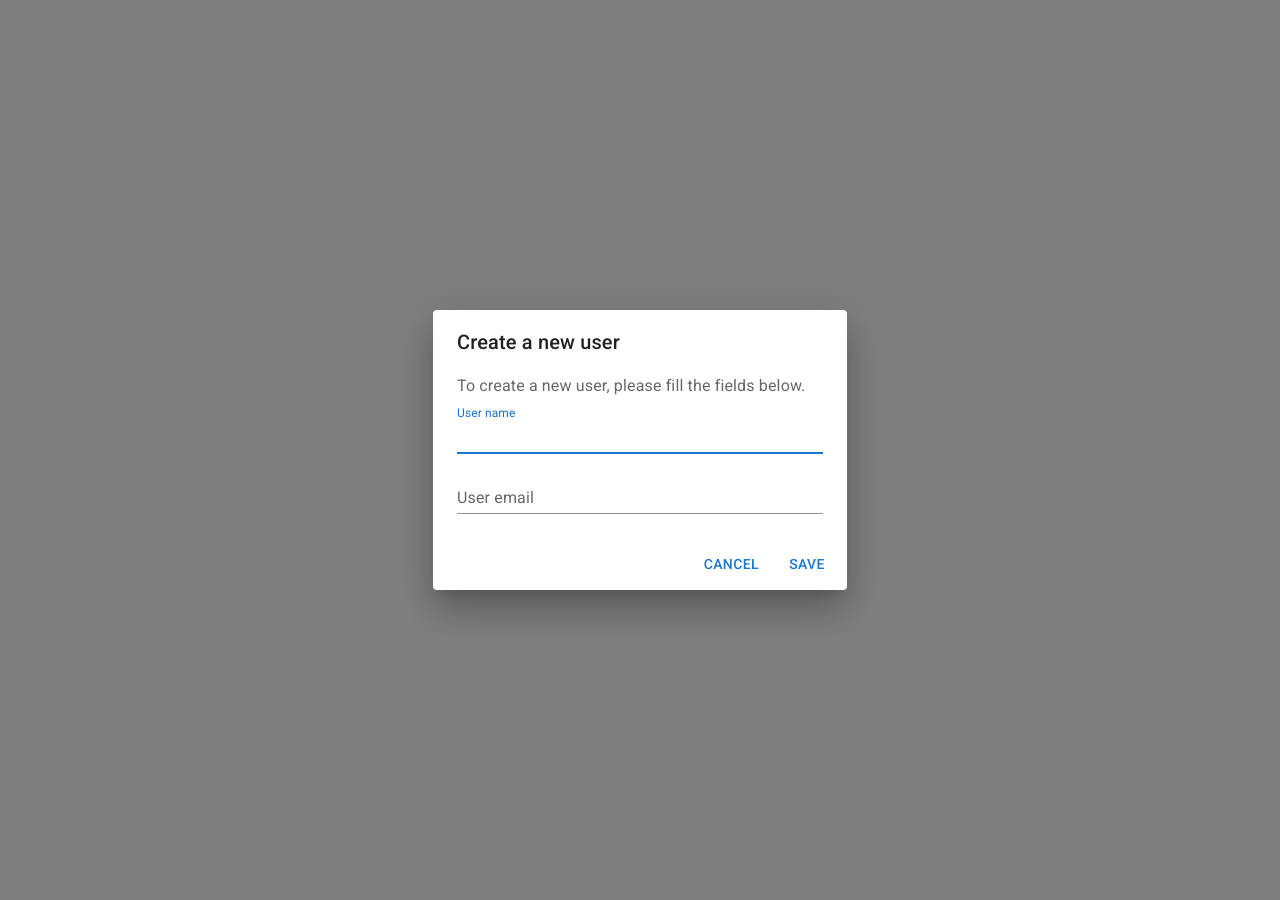
Test: #UserModal › when filling an existing email › renders a snackbar with the email in use error message
The image size is (1280, 900).
Type "new user" into the field labelled "User name" at (640, 438), box [457, 422, 823, 454]
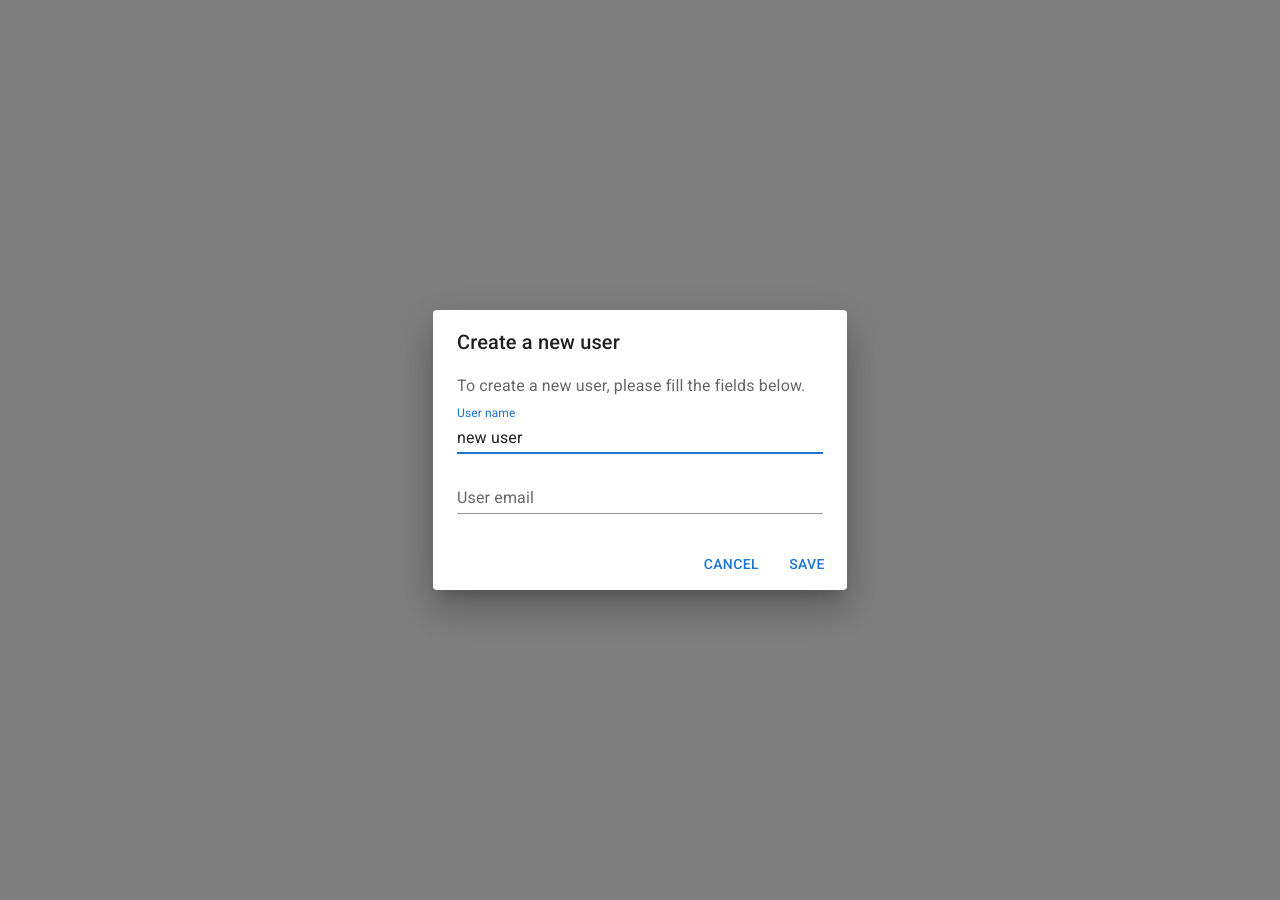
Type "johndoe@email.com" into the field labelled "User email" at (640, 498), box [457, 482, 823, 514]
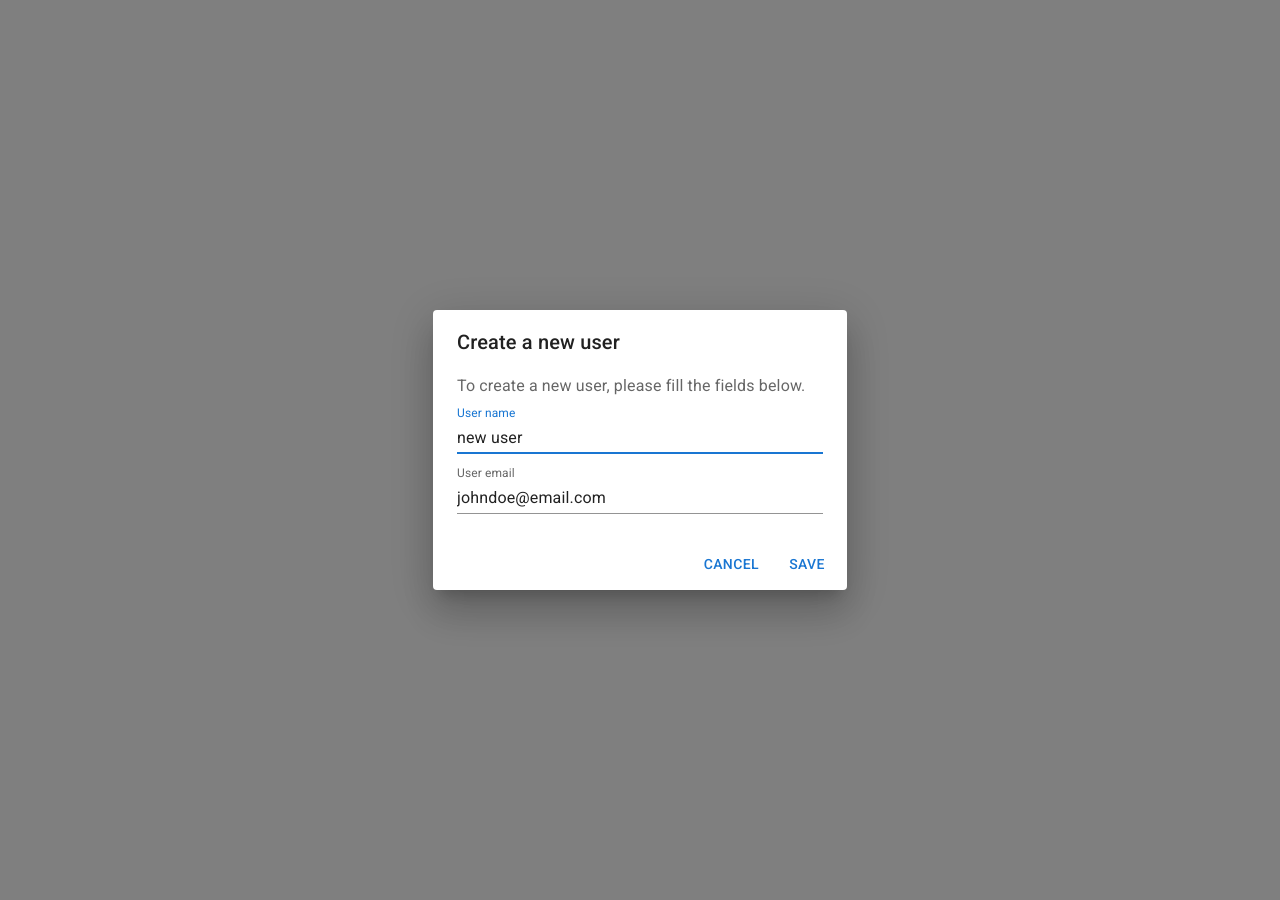
Click the button "Save" at (807, 564), box [775, 546, 839, 582]
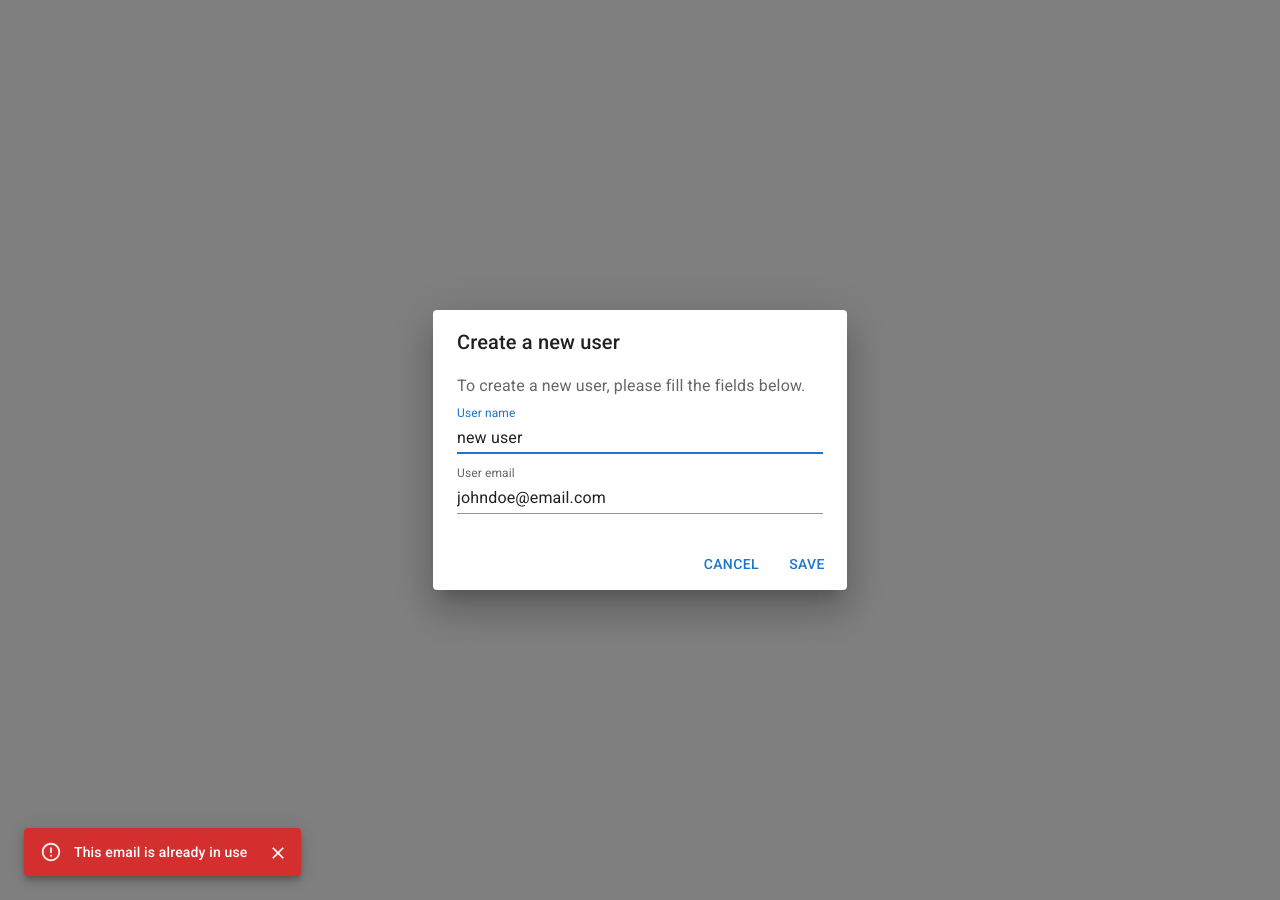
Result: the text "This email is already in use" is shown at [74, 844, 247, 860]
